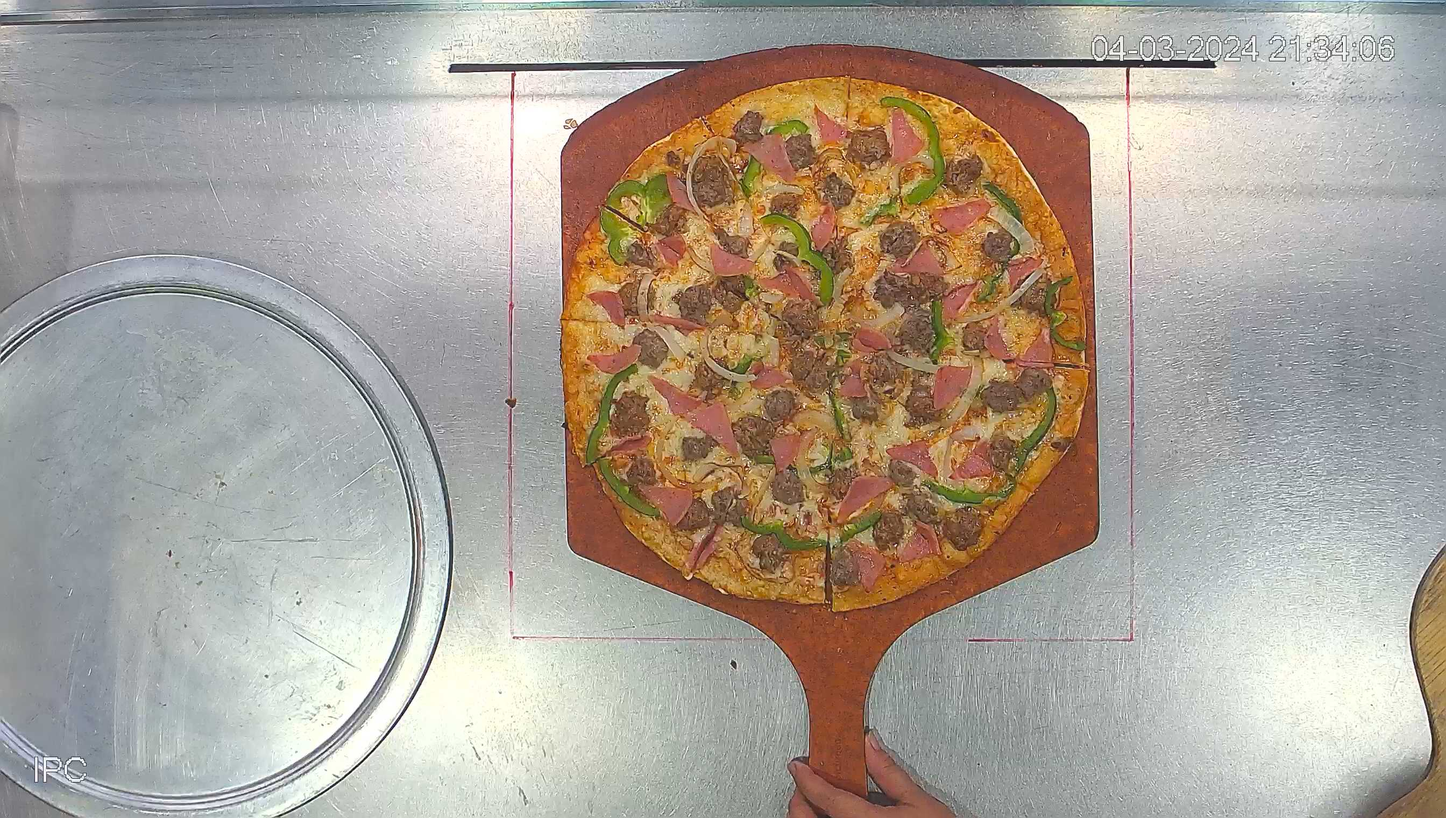hawaiian: (560, 75, 1088, 612)
